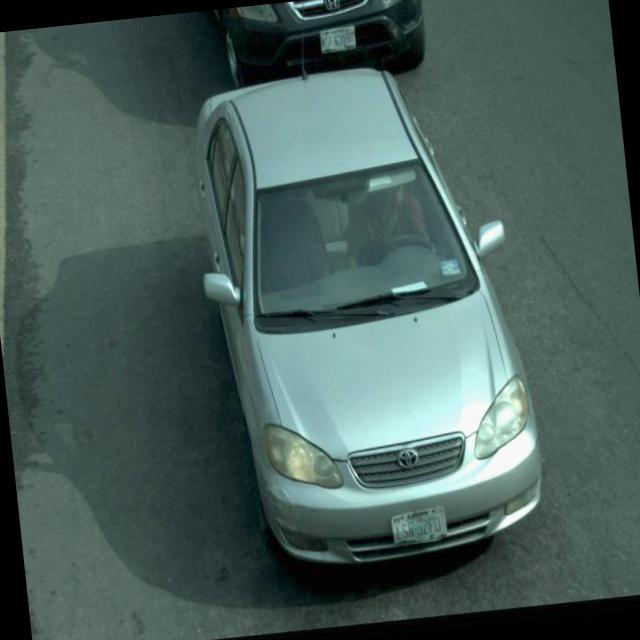person_with_seatbelt: (338, 162, 444, 282)
